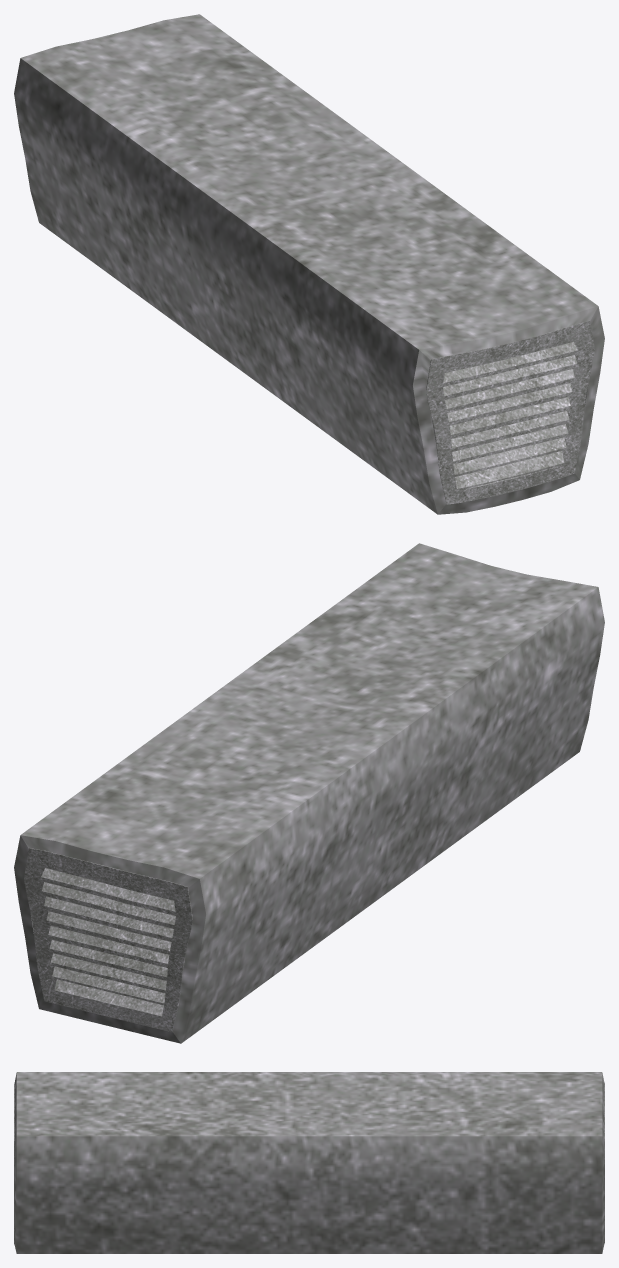
The model's file is vent.fbx.
3 renders of one model, top to bottom at view 1: azimuth 30°, elevation 25°; view 2: azimuth 150°, elevation 25°; view 3: azimuth 270°, elevation 25°, orthographic. The views are drawn at different scales.
Parts seen in each view (by area): view 1: base, frontOpening; view 2: base, backOpening; view 3: base.
Part boxes in pixels (x1=…): base: x1=14, y1=14, x2=604, y2=514; frontOpening: x1=426, y1=320, x2=594, y2=504; base: x1=14, y1=543, x2=604, y2=1043; backOpening: x1=24, y1=848, x2=192, y2=1032; base: x1=14, y1=1072, x2=604, y2=1253.
Size of the model in its own units: 86.74 by 76.76 by 315.
